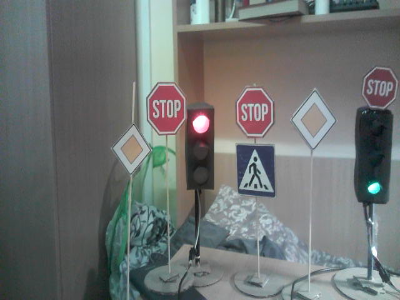crosswalk: (237, 144, 275, 196)
priority_road: (293, 93, 333, 148), (114, 127, 151, 173)
stop: (147, 84, 184, 135), (237, 89, 274, 137), (363, 70, 398, 108)
trafficlight_green: (359, 111, 390, 203)
trafficlight_red: (186, 108, 214, 189)
